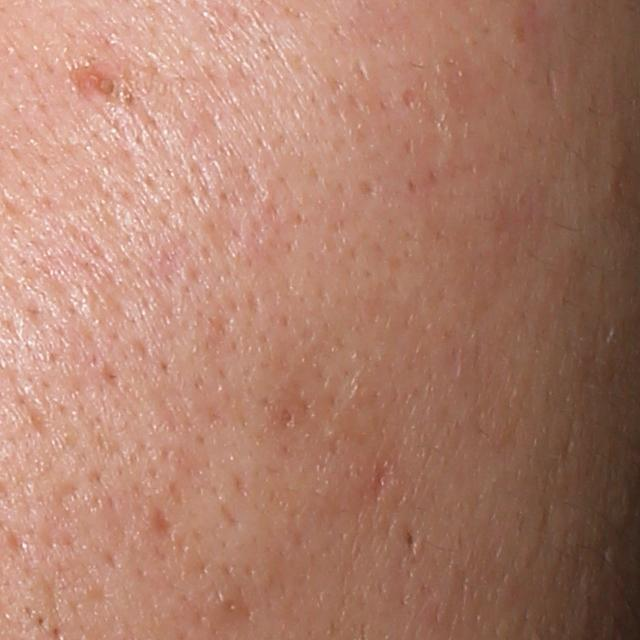atrophic_scar: (366, 456, 393, 510), (148, 504, 177, 542)
comedo: (270, 403, 300, 431), (34, 613, 48, 631)
